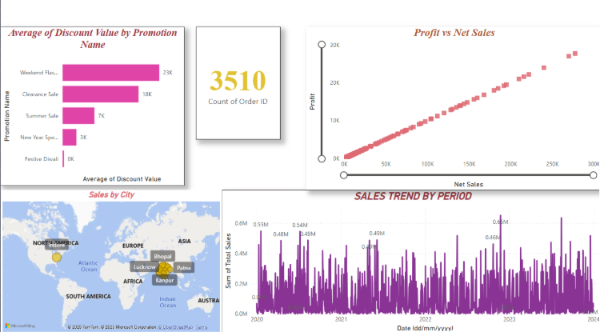

The dashboard page shown, as its layout file describes it:
{"tool":"powerbi","page":{"name":"Requirments","canvas":[1280,720],"ordinal":1},"visuals":[{"type":"lineChart","title":"SALES TREND BY PERIOD","fields":{"Y":["Sum(Fact Table.Total Sales)"],"Category":["Fact Table.Date (dd/mm/yyyy).Variation.Date Hierarchy.Year"]},"box":[470.8,410.9,809.5,309.4],"z":0},{"type":"scatterChart","title":"Profit vs Net Sales","fields":{"Y":["Fact Table.Profit"],"X":["Fact Table.Net Sales"]},"box":[650.5,63.6,629.8,347.3],"z":1000},{"type":"barChart","fields":{"Y":["Avg(Fact Table.Discount Value)"],"Category":["Dim Promotion.Promotion Name"]},"box":[0,63.6,391.3,338.7],"z":2000},{"type":"map","title":"Sales by City","fields":{"Size":["Sum(Fact Table.Net Sales)"],"Category":["Dim Customers.City"]},"box":[0,411,471,309],"z":3000},{"type":"card","fields":{"Values":["Count(Fact Table.Order ID)"]},"box":[415.8,63.6,179.8,239.7],"z":4000}]}

Visuals, with their boxes in screenshot pixels (x1, y1, x2, y2), scaled from the page's 1280x720 canvas onto the 600x332 screenshot:
"SALES TREND BY PERIOD" lineChart: l=221, t=189, r=599, b=331
"Profit vs Net Sales" scatterChart: l=305, t=29, r=599, b=189
barChart - Avg(Fact Table.Discount Value) x Dim Promotion.Promotion Name: l=0, t=29, r=183, b=186
"Sales by City" map: l=0, t=190, r=221, b=331
card - Count(Fact Table.Order ID): l=195, t=29, r=279, b=140
